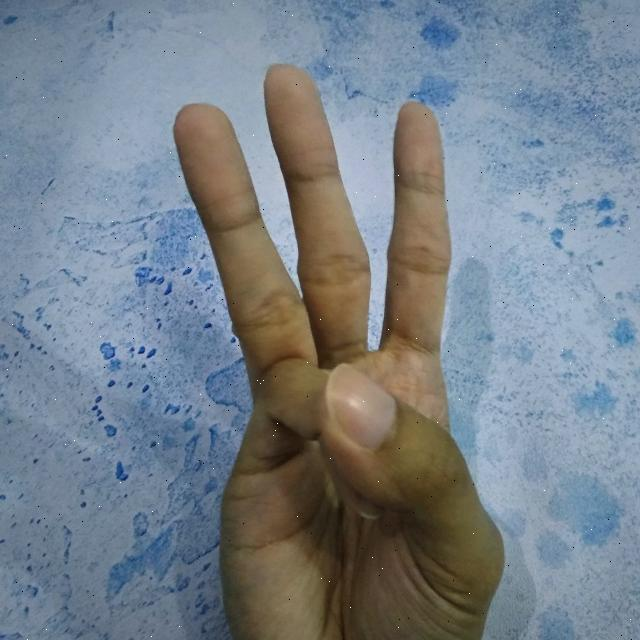W: (156, 49, 514, 640)
